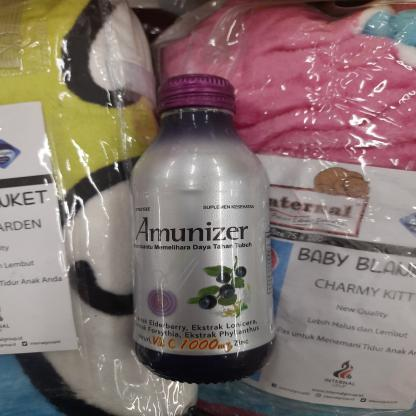glass: (123, 68, 279, 384)
